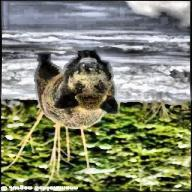boar: (35, 50, 120, 130)
